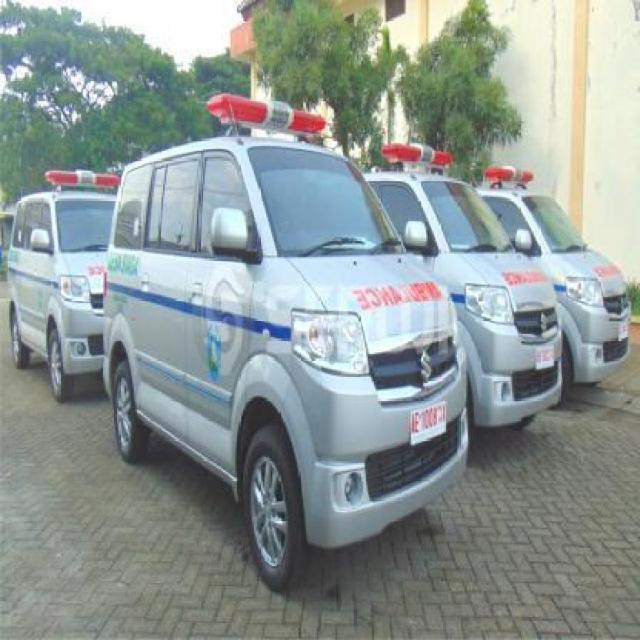Ambulance: (122, 150, 454, 561), (392, 149, 564, 420), (488, 152, 631, 375), (12, 115, 101, 399)
